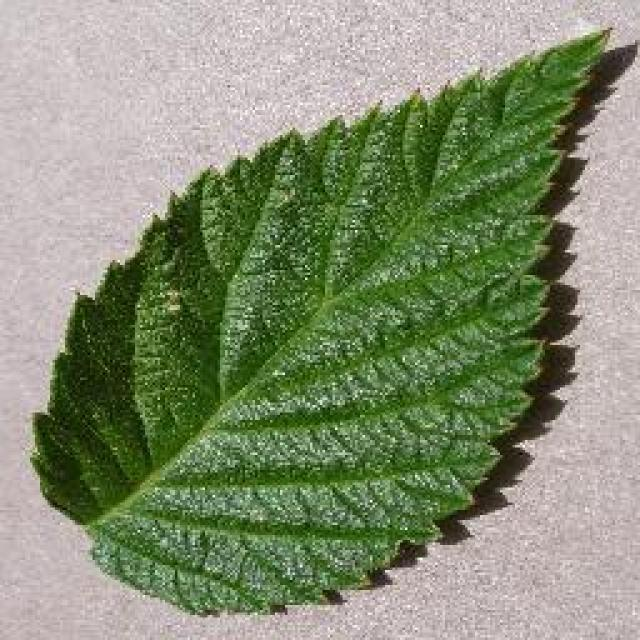Ras_healthy: (81, 144, 545, 555)
